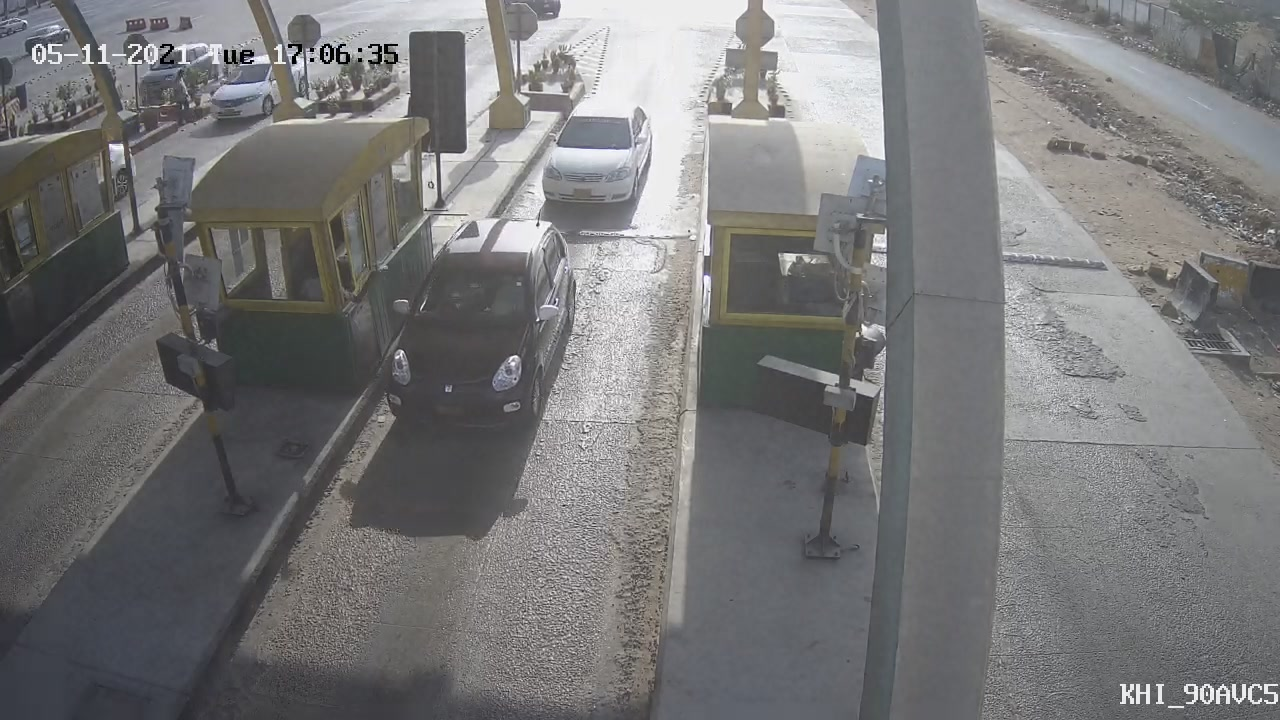F1: (365, 196, 592, 456), (520, 78, 668, 222)
